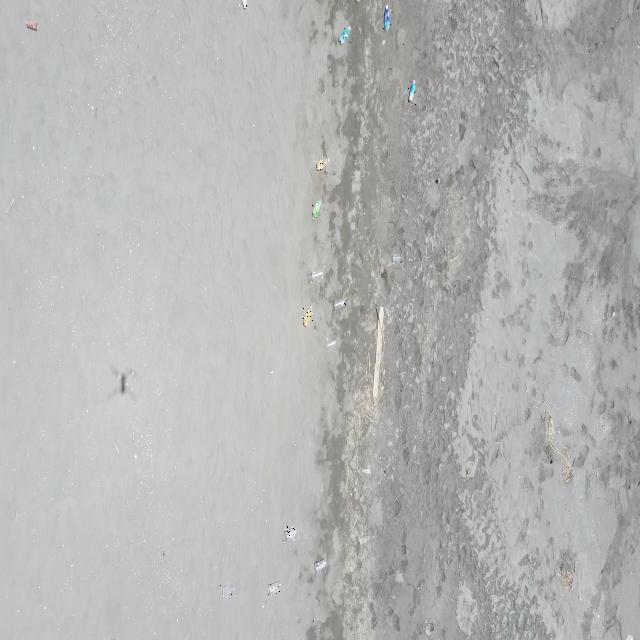plastic-bottle: (337, 26, 351, 47), (311, 197, 322, 221), (382, 4, 391, 32), (302, 306, 313, 328), (407, 81, 417, 105), (315, 157, 330, 172), (238, 0, 246, 12)
takeaway-cup: (310, 558, 326, 574), (266, 581, 280, 598), (283, 526, 296, 543), (220, 584, 235, 598), (310, 270, 324, 283), (332, 298, 346, 310), (390, 252, 402, 264), (324, 339, 336, 351)
